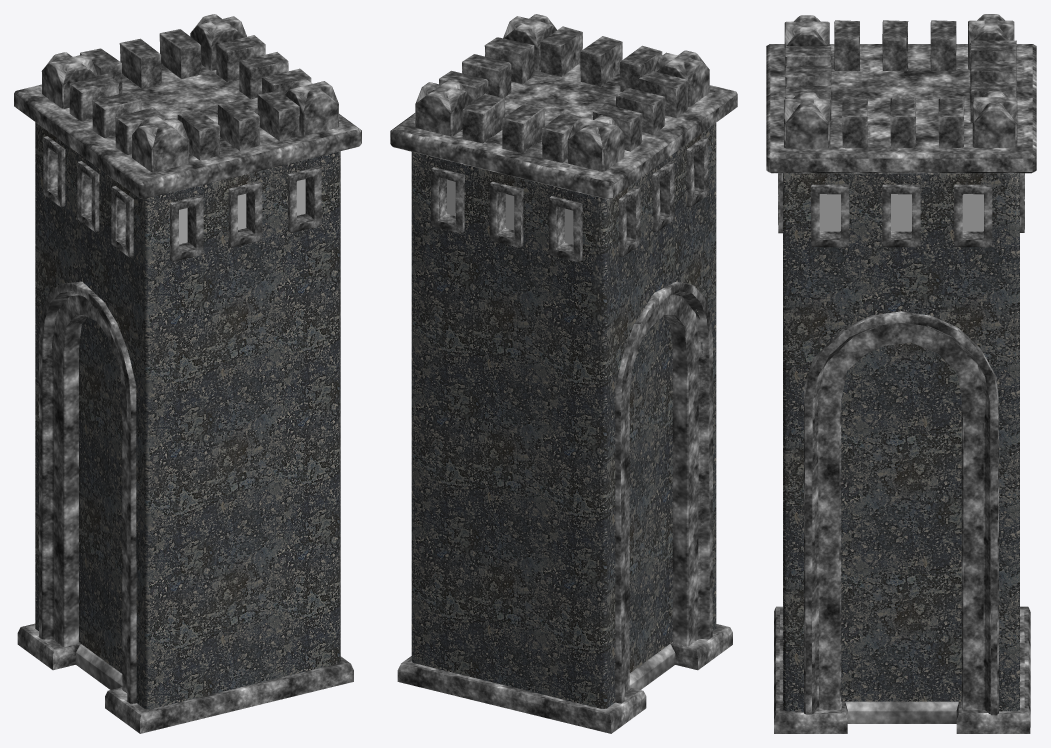
Rendered from SM_wall_tower_02.fbx.
3 views of the same model, side by side, from view 1: azimuth 30°, elevation 25°; view 2: azimuth 150°, elevation 25°; view 3: azimuth 270°, elevation 25° (orthographic). The views are drawn at different scales.
Parts seen in each view (by area): view 1: SM_wall_tower_02_LOD0; view 2: SM_wall_tower_02_LOD0; view 3: SM_wall_tower_02_LOD0.
Part boxes in pixels (x1=…): SM_wall_tower_02_LOD0: x1=14, y1=14, x2=361, y2=733; SM_wall_tower_02_LOD0: x1=390, y1=14, x2=737, y2=733; SM_wall_tower_02_LOD0: x1=766, y1=14, x2=1036, y2=733.
Bounding box in the file's own units: 510 × 510 × 1289.
